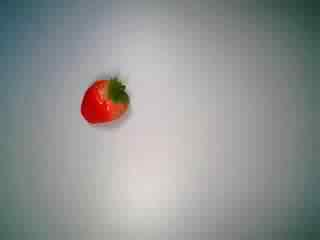strawberry: (70, 71, 136, 133)
